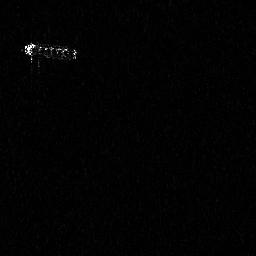ship: (23, 40, 79, 70)
